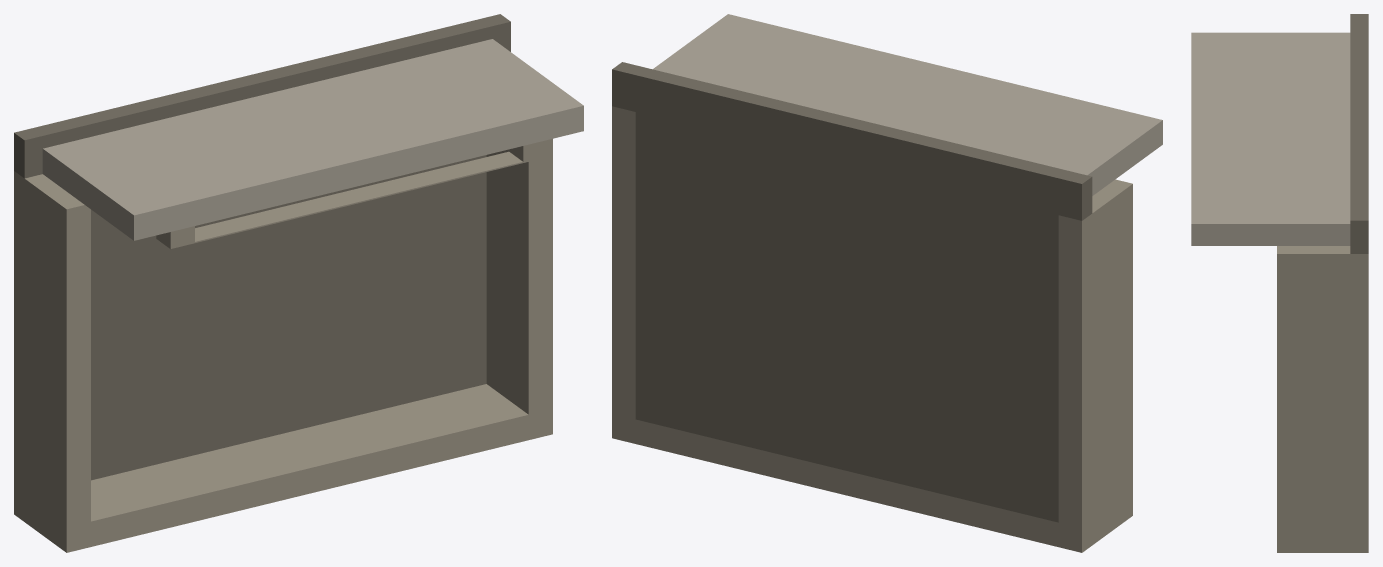
Rendered from extending_bar_table.glb.
3 renders of one model, left to right at view 1: azimuth 30°, elevation 25°; view 2: azimuth 150°, elevation 25°; view 3: azimuth 270°, elevation 25°, orthographic. The views are drawn at different scales.
Visible parts, largest first — view 1: extending_bar_table_Body, extending_bar_table_Bar, extending_bar_table_Leg; view 2: extending_bar_table_Body, extending_bar_table_Bar; view 3: extending_bar_table_Bar, extending_bar_table_Body.
Boxes of the visible parts, x1,y1,x2,y2 form: extending_bar_table_Body: (14, 14, 552, 552); extending_bar_table_Bar: (42, 39, 583, 240); extending_bar_table_Leg: (156, 140, 547, 248); extending_bar_table_Body: (612, 62, 1132, 552); extending_bar_table_Bar: (653, 14, 1162, 195); extending_bar_table_Bar: (1191, 32, 1350, 245); extending_bar_table_Body: (1277, 14, 1368, 552).
Size of the model in its own units: 0.8 by 0.6 by 0.29.
